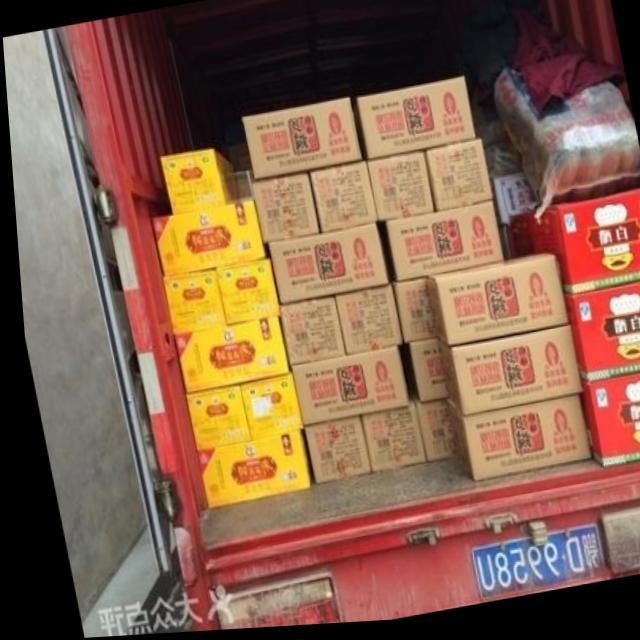box: (504, 194, 640, 303), (421, 258, 563, 350), (431, 332, 576, 420), (438, 400, 583, 486), (356, 81, 473, 162), (263, 227, 384, 305), (239, 104, 359, 182), (379, 208, 498, 285), (283, 351, 402, 428), (170, 318, 284, 394), (190, 433, 305, 507), (150, 202, 261, 277), (557, 291, 640, 387), (571, 380, 640, 473), (158, 153, 236, 219), (351, 405, 420, 475), (328, 288, 396, 358), (363, 156, 429, 227), (422, 144, 488, 215), (307, 166, 372, 237), (248, 178, 315, 246), (209, 259, 273, 328), (296, 420, 362, 486), (274, 300, 340, 366), (179, 386, 245, 452), (158, 267, 220, 336), (232, 377, 296, 443), (387, 283, 431, 347), (409, 404, 450, 467), (401, 344, 440, 406)
